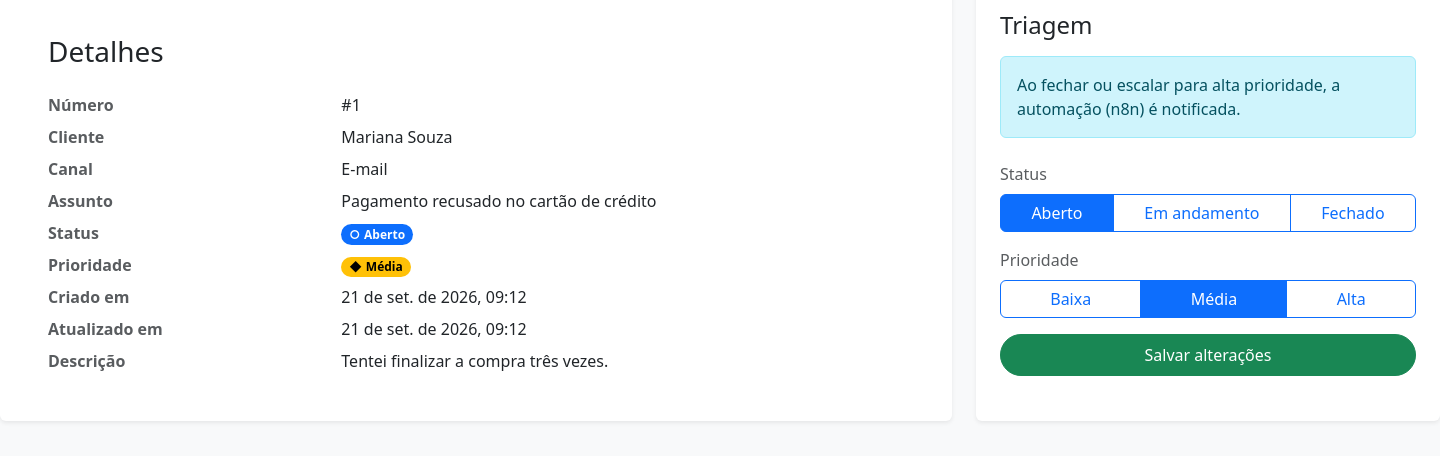
Test case: TicketDetail › shows a translated failure message and keeps the previous state
Click the button "Fechado". click: [1353, 213]
box: [1290,194,1416,232]
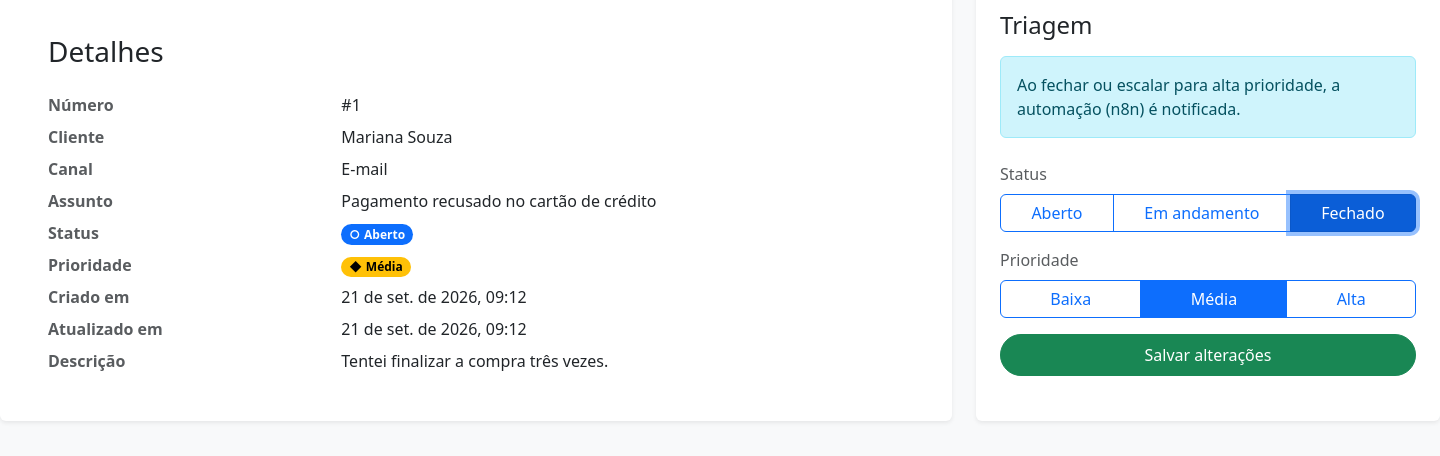
Click the button "Salvar alterações". click: [1208, 355]
box: [1000,334,1416,376]
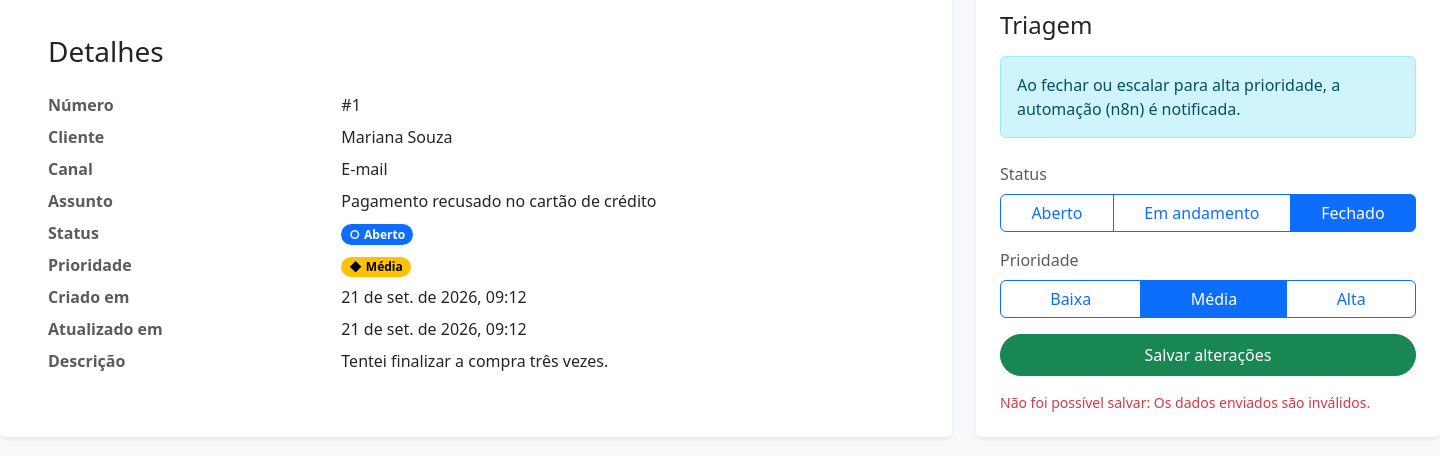
Expected: the element with test id "current-status" shows "Aberto", [364,226,405,243]
Expected: the text "Não foi possível salvar: Os dados enviados são inválidos." is shown, [1000,392,1416,413]
